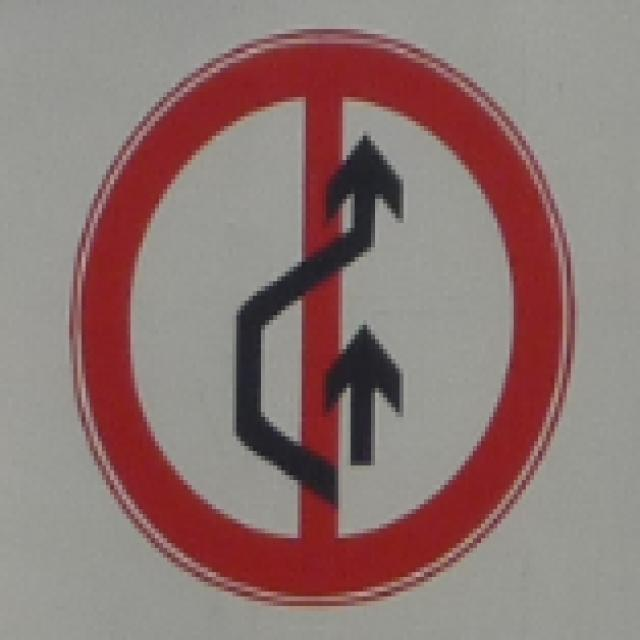Not that Direction: (66, 25, 572, 604)
